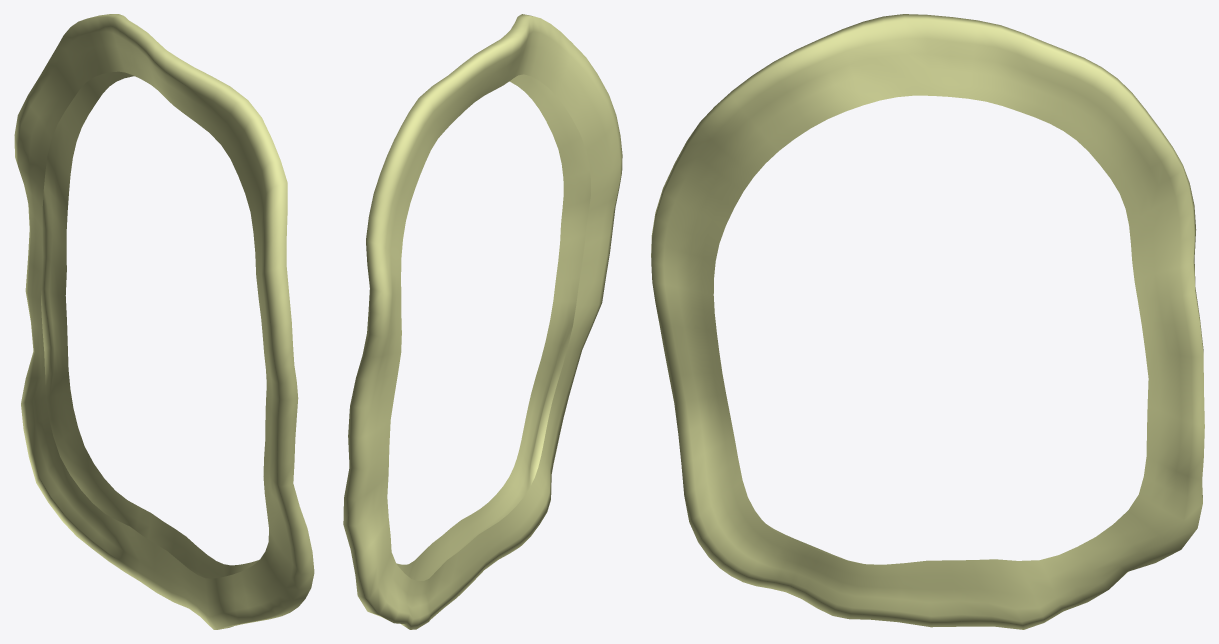
File: liver_collar.fbx
The picture shows the model from 3 angles, left to right: view 1: azimuth 30°, elevation 25°; view 2: azimuth 150°, elevation 25°; view 3: azimuth 270°, elevation 25°; orthographic projection. The views are drawn at different scales.
Parts seen in each view (by area): view 1: collar_remesh; view 2: collar_remesh; view 3: collar_remesh.
Part boxes in pixels (<box>): collar_remesh: <box>14,14,314,629</box>; collar_remesh: <box>343,14,622,629</box>; collar_remesh: <box>651,14,1204,629</box>.
Size of the model in its own units: 0.8099 by 6.74 by 5.68.
